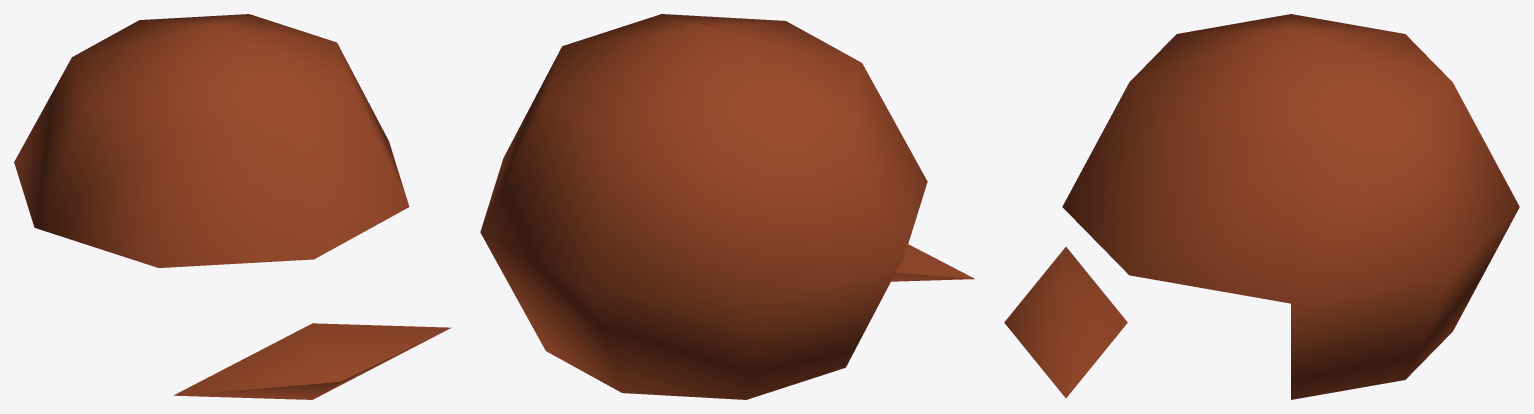
Rendered from hat_redhair.glb.
The picture shows the model from 3 angles, left to right: view 1: azimuth 30°, elevation 25°; view 2: azimuth 150°, elevation 25°; view 3: azimuth 270°, elevation 25°; orthographic projection. The views are drawn at different scales.
Parts seen in each view (by area): view 1: hat_redhair; view 2: hat_redhair; view 3: hat_redhair.
Boxes of the visible parts, left/top/right/bottom form: hat_redhair: left=14, top=14, right=451, bottom=399; hat_redhair: left=480, top=14, right=974, bottom=399; hat_redhair: left=1004, top=14, right=1519, bottom=399.
Size of the model in its own units: 0.1647 by 0.14 by 0.1856.
